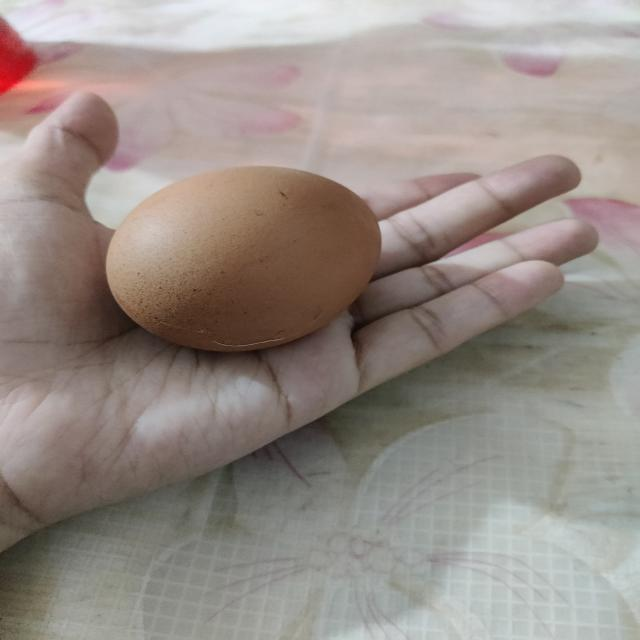egg: (105, 162, 386, 358)
